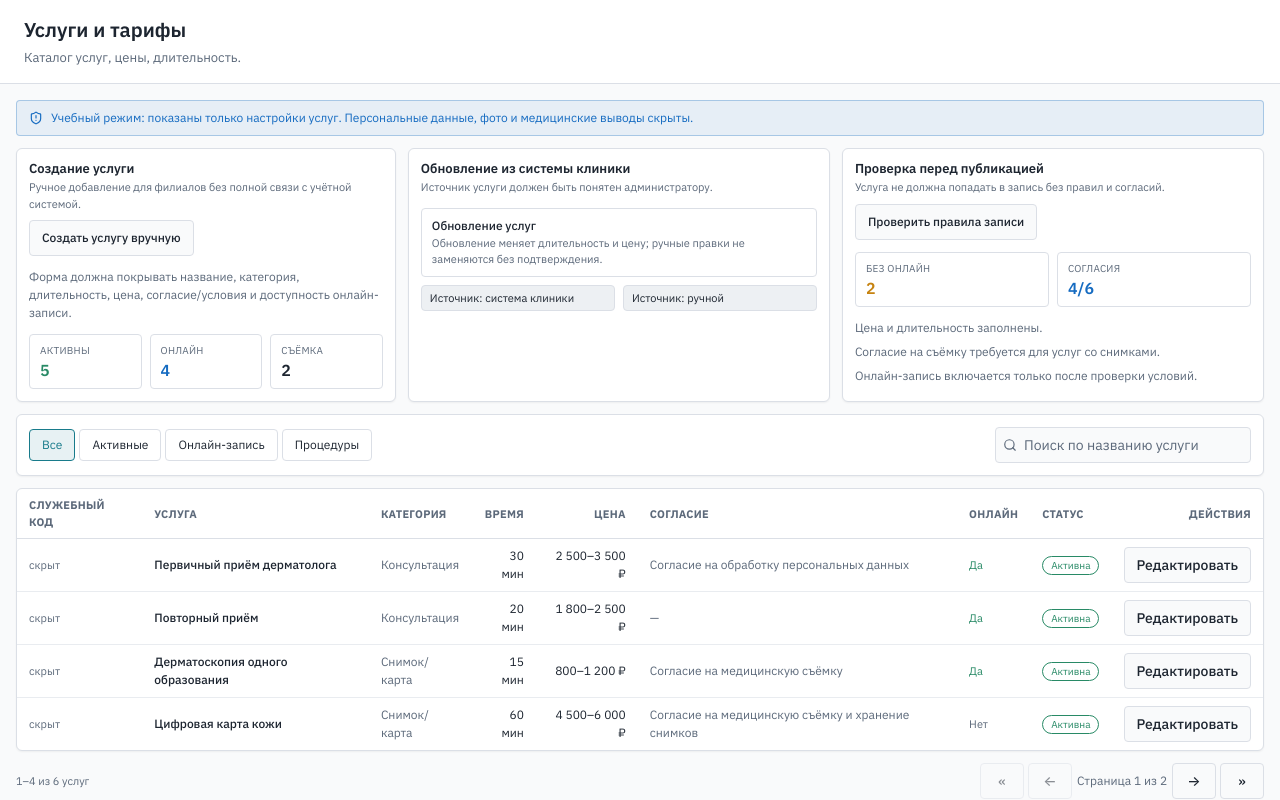
Admin clinic core pages — render & safety › AdminServicesPage exposes manual service creation, clinic-system updates and pre-publish checks
This screenshot has width=1280, height=800.
Expected: the heading "Создание услуги" is shown, [29, 160, 134, 177]
Expected: the heading "Обновление из системы клиники" is shown, [421, 160, 630, 177]
Click the button "Создать услугу вручную" at coordinates (111, 238), box [29, 220, 194, 256]
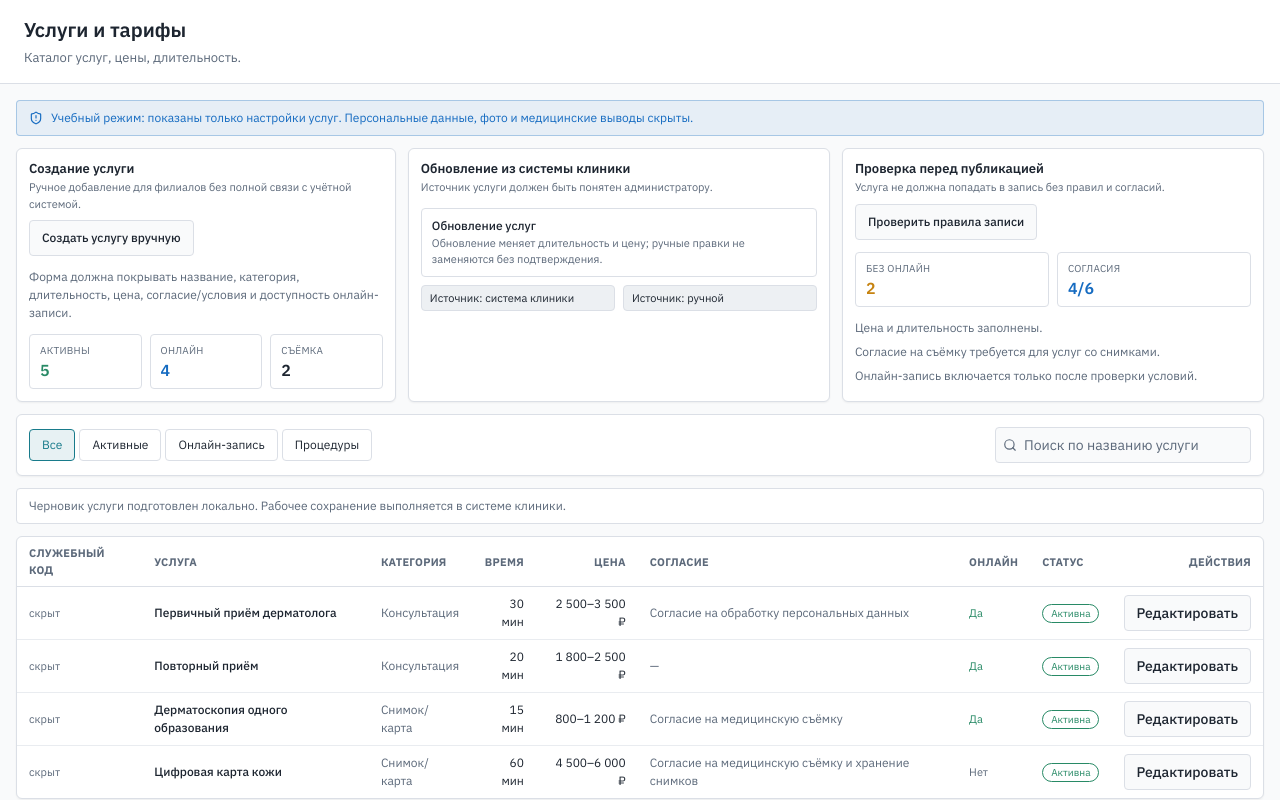
Expected: the text "Черновик услуги подготовлен локально" is shown, [29, 498, 566, 513]
